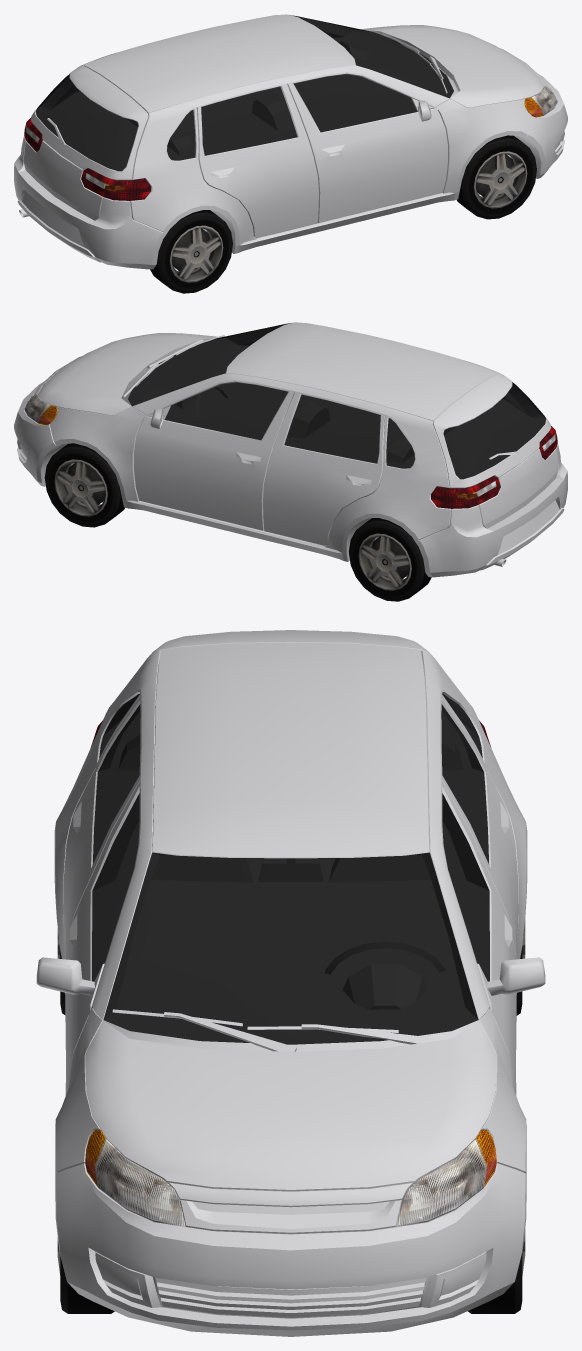
File: traffic_hatchback.glb
The picture shows the model from 3 angles, top to bottom: view 1: azimuth 30°, elevation 25°; view 2: azimuth 150°, elevation 25°; view 3: azimuth 270°, elevation 25°; orthographic projection. The views are drawn at different scales.
Parts seen in each view (by area): view 1: hatchback_c_body, hatchback_c_glass, hatchback_c_wheel_2, hatchback_c_wheel_0, hatchback_c_optics; view 2: hatchback_c_body, hatchback_c_glass, hatchback_c_wheel_1, hatchback_c_wheel_3, hatchback_c_optics; view 3: hatchback_c_body, hatchback_c_glass, hatchback_c_optics, hatchback_c_wheel_1, hatchback_c_wheel_0.
Boxes of the visible parts, bbox=[...] form: hatchback_c_body: bbox=[14, 14, 567, 269]; hatchback_c_glass: bbox=[35, 15, 453, 171]; hatchback_c_wheel_2: bbox=[150, 210, 232, 293]; hatchback_c_wheel_0: bbox=[457, 135, 536, 219]; hatchback_c_optics: bbox=[24, 87, 557, 200]; hatchback_c_body: bbox=[14, 322, 567, 577]; hatchback_c_glass: bbox=[128, 323, 546, 479]; hatchback_c_wheel_1: bbox=[44, 443, 124, 527]; hatchback_c_wheel_3: bbox=[348, 518, 431, 601]; hatchback_c_optics: bbox=[24, 395, 557, 508]; hatchback_c_body: bbox=[36, 630, 545, 1336]; hatchback_c_glass: bbox=[92, 694, 489, 1044]; hatchback_c_optics: bbox=[85, 720, 496, 1226]; hatchback_c_wheel_1: bbox=[468, 1229, 525, 1313]; hatchback_c_wheel_0: bbox=[57, 1238, 114, 1313].
Size of the model in its own units: 3.96 by 1.35 by 1.74.
Materials: 7 (5 with a texture image).
